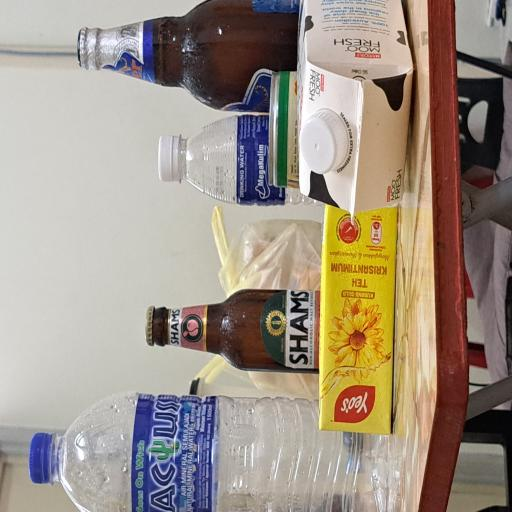can: (243, 357, 331, 399)
drink carton: (216, 395, 384, 512), (58, 425, 231, 512)
glass bottle: (300, 104, 384, 398), (103, 194, 167, 426)
plastic bottle: (0, 69, 87, 512), (230, 240, 296, 422)
plastic bottle cap: (253, 400, 301, 464), (21, 37, 60, 71), (247, 211, 282, 238)
